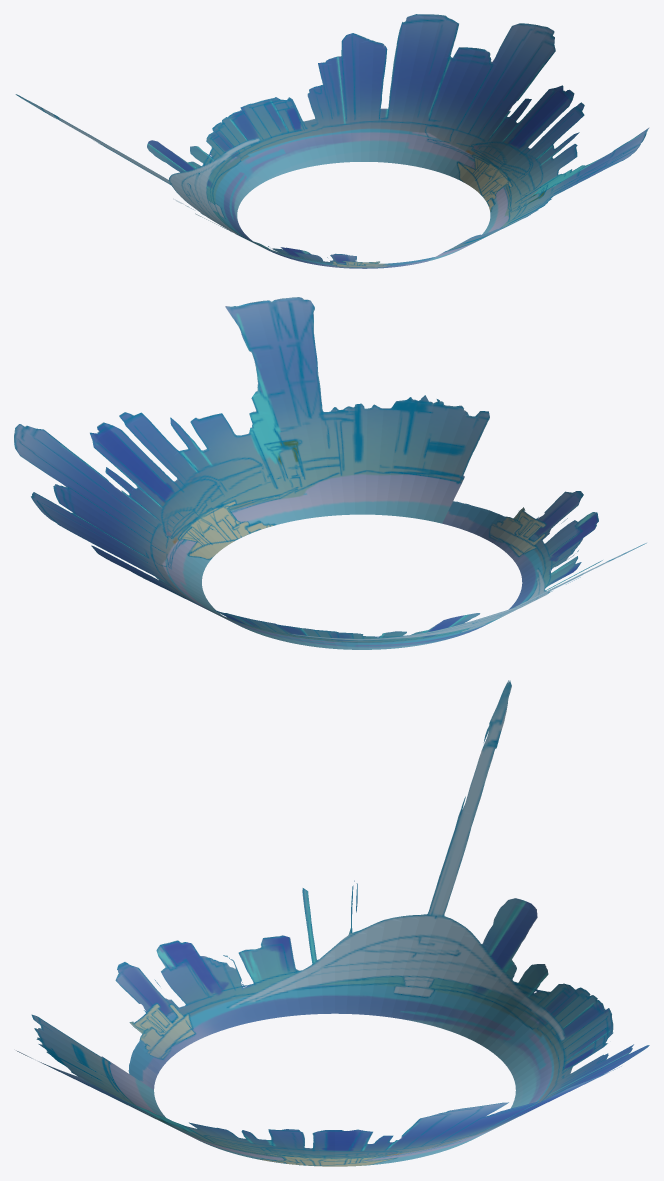
The picture shows the model from 3 angles, top to bottom: view 1: azimuth 30°, elevation 25°; view 2: azimuth 150°, elevation 25°; view 3: azimuth 270°, elevation 25°; orthographic projection. The views are drawn at different scales.
Visible parts, largest first — view 1: mask17; view 2: mask17; view 3: mask17.
Part boxes in pixels (x1=…): mask17: x1=15, y1=14, x2=649, y2=268; mask17: x1=14, y1=297, x2=646, y2=649; mask17: x1=16, y1=680, x2=649, y2=1166.
Bounding box in the file's own units: 7.54 × 2.04 × 5.59.
Materials: 1 (1 with a texture image).
